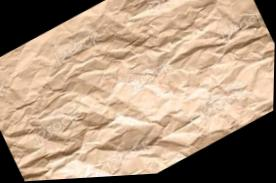paper: (0, 0, 273, 179)
